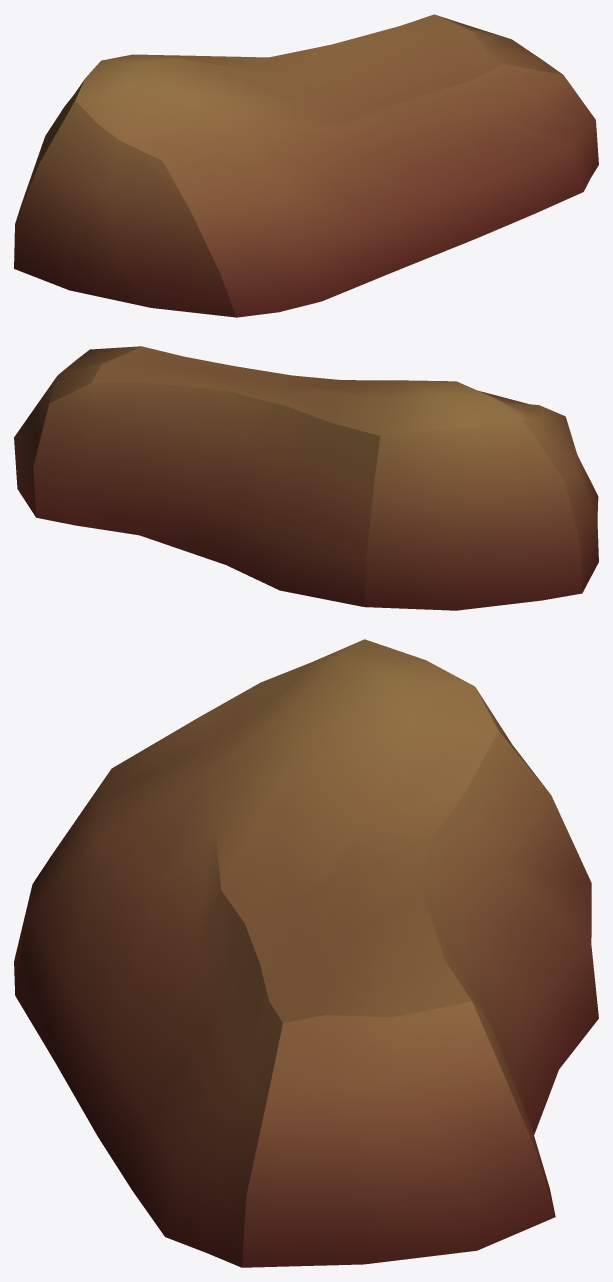
File: Mountain_big.006.fbx
The picture shows the model from 3 angles, top to bottom: view 1: azimuth 30°, elevation 25°; view 2: azimuth 150°, elevation 25°; view 3: azimuth 270°, elevation 25°; orthographic projection. The views are drawn at different scales.
Parts seen in each view (by area): view 1: Mountain_big.006; view 2: Mountain_big.006; view 3: Mountain_big.006.
Boxes of the visible parts, left/top/right/bottom form: Mountain_big.006: left=14, top=14, right=598, bottom=317; Mountain_big.006: left=14, top=346, right=598, bottom=610; Mountain_big.006: left=14, top=639, right=598, bottom=1267.
Size of the model in its own units: 251 by 73.75 by 145.
